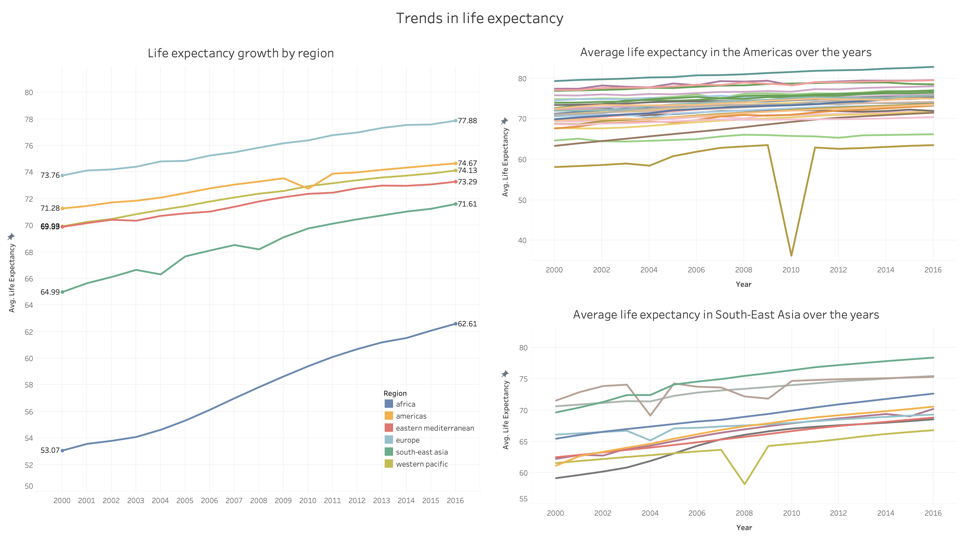

The dashboard page shown, as its layout file describes it:
{"tool":"tableau","page":{"name":"Trends in life expectancy","canvas":[1600,900],"ordinal":1},"visuals":[{"type":"title","box":[8,8,1584,42]},{"type":"worksheet","title":"Life expectancy in the Americas","mark":"Automatic","rows":["life_expectancy"],"cols":["year"],"box":[826,66,769,423]},{"type":"worksheet","title":"Life expectancy growth by region","mark":"Automatic","rows":["life_expectancy"],"cols":["year"],"box":[3,67,804,830]},{"type":"worksheet","title":"Life expectancy in South-East Asia","mark":"Automatic","rows":["life_expectancy"],"cols":["year"],"box":[827,504,768,391]},{"type":"legend","title":"Life expectancy growth by region","param":"[federated.1mp0aki1ie6vtg188nzm90nu4nua].[none:region:nk]","box":[638,645,161,138]}]}

Visuals, with their boxes in screenshot pixels (x1, y1, x2, y2), scaled from the page's 1600x900 canvas onto the 960x540 screenshot:
title: [5, 5, 955, 30]
"Life expectancy in the Americas" worksheet: [496, 40, 957, 293]
"Life expectancy growth by region" worksheet: [2, 40, 484, 538]
"Life expectancy in South-East Asia" worksheet: [496, 302, 957, 537]
"Life expectancy growth by region" legend: [383, 387, 479, 470]
